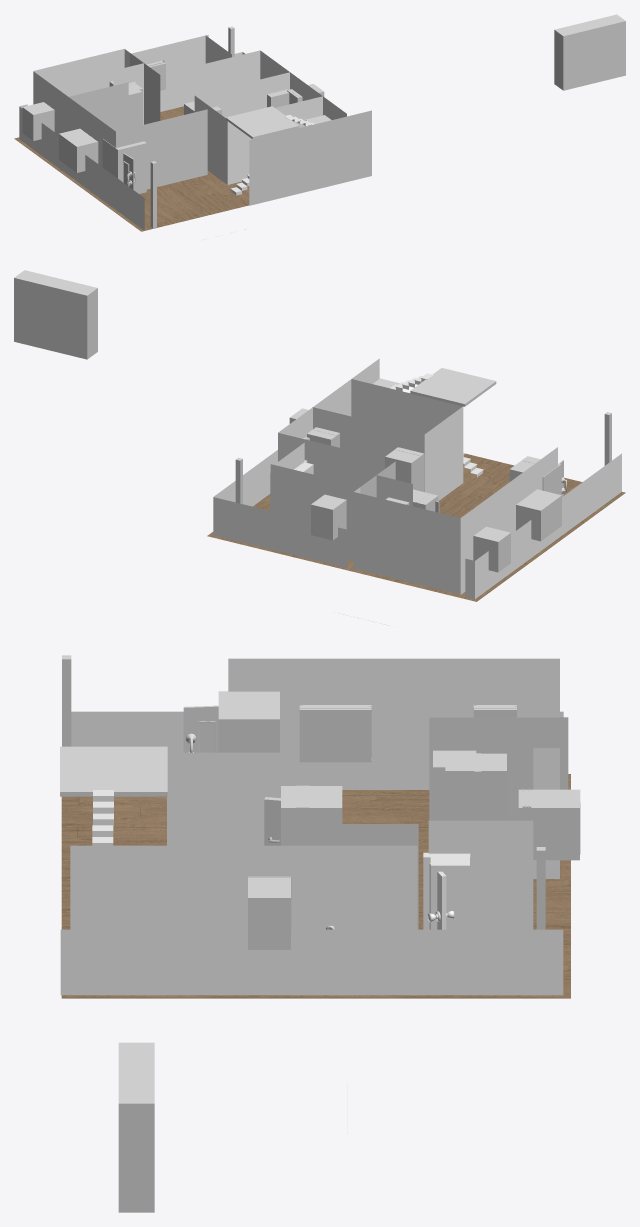
The model's file is saleem.glb.
3 renders of one model, top to bottom at view 1: azimuth 30°, elevation 25°; view 2: azimuth 150°, elevation 25°; view 3: azimuth 270°, elevation 25°, orthographic. The views are drawn at different scales.
Parts seen in each view (by area): view 1: Room.001, Room.002, Room.009, CTRL_Hole.010, Room.010, Plane, Room.008, Room.003, Room.004, CTRL_Hole, Plane.001, CTRL_Hole.007 (+8 smaller); view 2: Room.002, Room.009, Room, CTRL_Hole.010, Room.003, Plane, Room.008, Plane.001, CTRL_Hole.007, CTRL_Hole.009, CTRL_Hole.003, CTRL_Hole.002 (+2 smaller); view 3: Room, Room.008, Room.002, Plane, Room.009, Room.012, Room.005, CTRL_Hole.010, Plane.001, CTRL_Hole.007, Room.003, CTRL_Hole.009 (+13 smaller).
Boxes of the visible parts, bbox=[...] form: Room.001: bbox=[249, 110, 371, 205]; Room.002: bbox=[33, 35, 208, 166]; Room.009: bbox=[194, 72, 322, 184]; CTRL_Hole.010: bbox=[554, 14, 625, 90]; Room.010: bbox=[116, 109, 207, 189]; Plane: bbox=[14, 106, 249, 231]; Room.008: bbox=[193, 50, 346, 119]; Room.003: bbox=[19, 104, 144, 230]; Room.004: bbox=[69, 82, 128, 131]; CTRL_Hole: bbox=[102, 139, 146, 193]; Plane.001: bbox=[226, 106, 299, 139]; CTRL_Hole.007: bbox=[59, 128, 97, 172]; Room.002: bbox=[270, 447, 557, 594]; Room.009: bbox=[312, 379, 463, 500]; Room: bbox=[213, 450, 347, 568]; CTRL_Hole.010: bbox=[14, 270, 97, 359]; Room.003: bbox=[465, 453, 621, 599]; Plane: bbox=[207, 453, 625, 601]; Room.008: bbox=[278, 358, 379, 484]; Plane.001: bbox=[410, 368, 496, 406]; CTRL_Hole.007: bbox=[516, 489, 561, 541]; CTRL_Hole.009: bbox=[311, 494, 346, 540]; CTRL_Hole.003: bbox=[473, 526, 510, 572]; CTRL_Hole.002: bbox=[385, 450, 423, 491]; Room: bbox=[60, 929, 563, 995]; Room.008: bbox=[70, 845, 417, 929]; Room.002: bbox=[228, 658, 559, 878]; Plane: bbox=[61, 774, 570, 998]; Room.009: bbox=[167, 752, 298, 845]; Room.012: bbox=[428, 820, 533, 929]; Room.005: bbox=[429, 717, 568, 820]; CTRL_Hole.010: bbox=[118, 1042, 154, 1212]; Plane.001: bbox=[60, 746, 167, 796]; CTRL_Hole.007: bbox=[299, 705, 371, 762]; Room.003: bbox=[71, 711, 563, 752]; CTRL_Hole.009: bbox=[518, 789, 580, 860].
Size of the model in its own units: 9.65 by 3.14 by 4.32.
16 materials, 1 textured.
